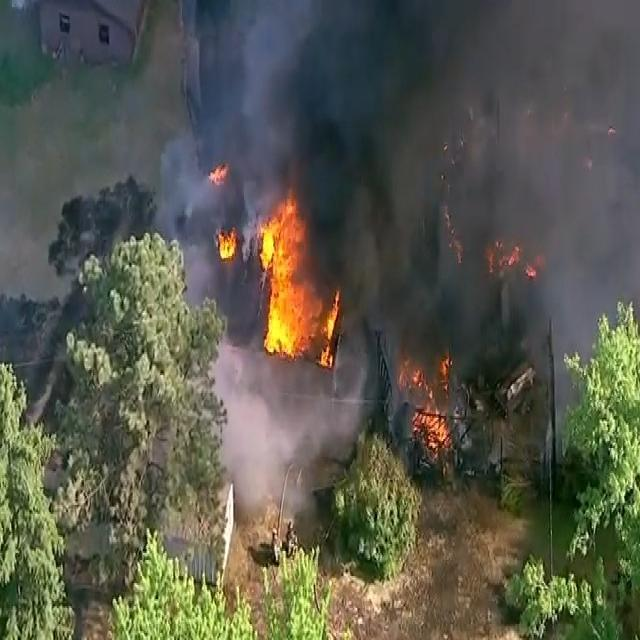Fire: (262, 188, 342, 370), (397, 351, 458, 454), (497, 231, 546, 283), (218, 224, 237, 262), (208, 164, 236, 186)
Smoke: (158, 0, 462, 505)
